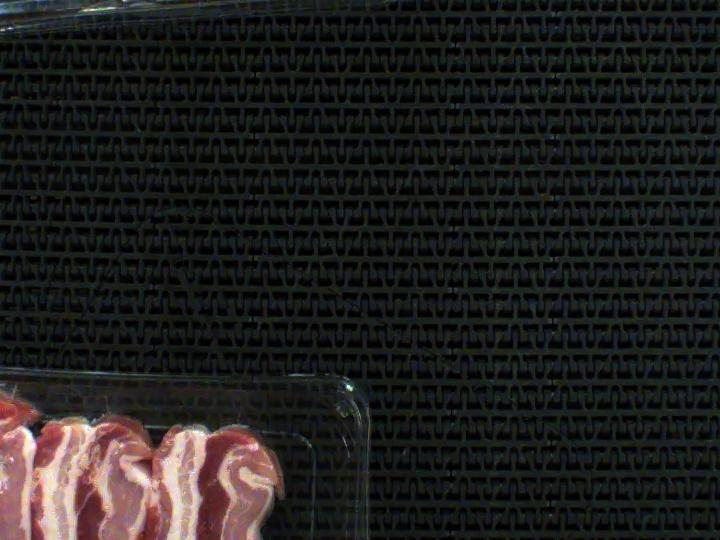packaging-error: (0, 353, 36, 432)
